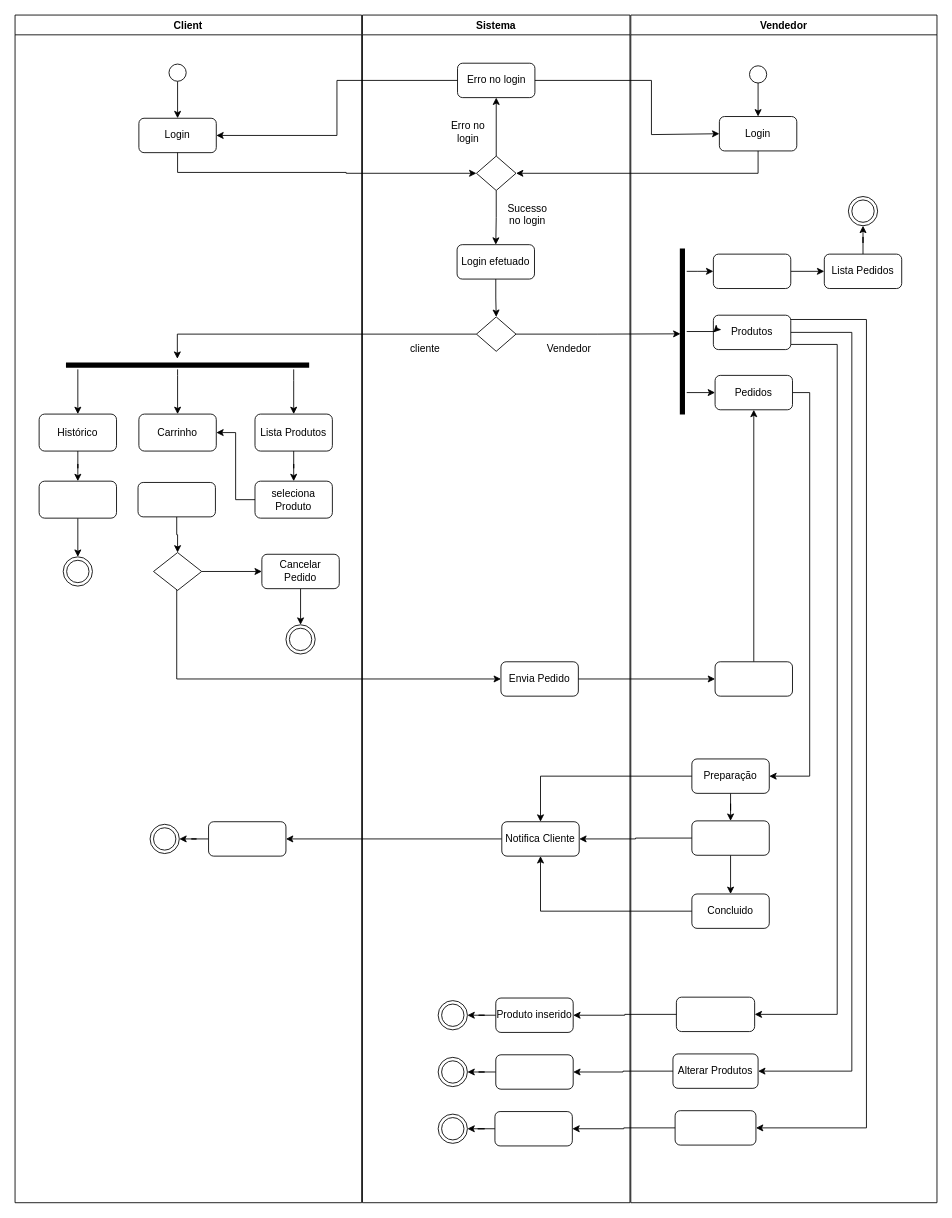
Image size: 952x1218. Some labels were removed from this diagram. Here are the shapes that lost their labels. From the top down, the centre of each, then its label:
point (752, 271): Histórico Pedidos
point (77, 499): Lista de Pedidos Anteriores
point (176, 499): Efetuar Pedido
point (753, 678): Recebe Pedido
point (247, 838): Cliente Notificado
point (730, 837): Entrega
point (715, 1014): Inserir Produto
point (534, 1071): Produto alterado
point (533, 1128): Produto eliminado
point (715, 1127): Apagar Produtos
